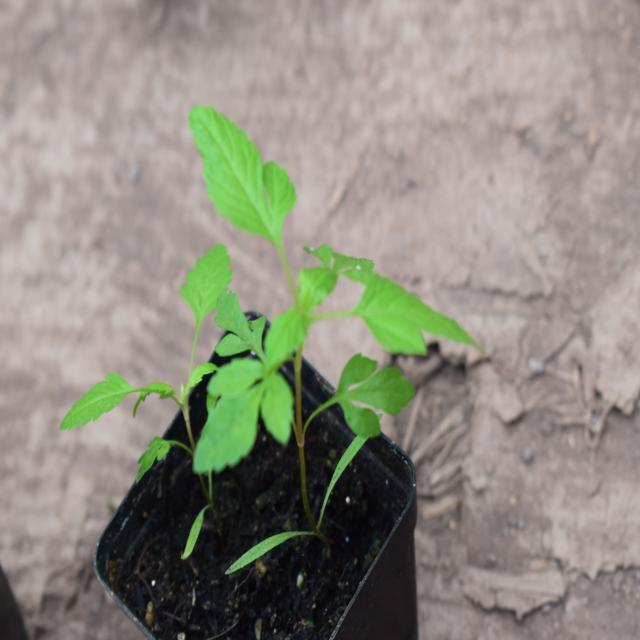Bidens pilosa: (169, 97, 475, 487)
